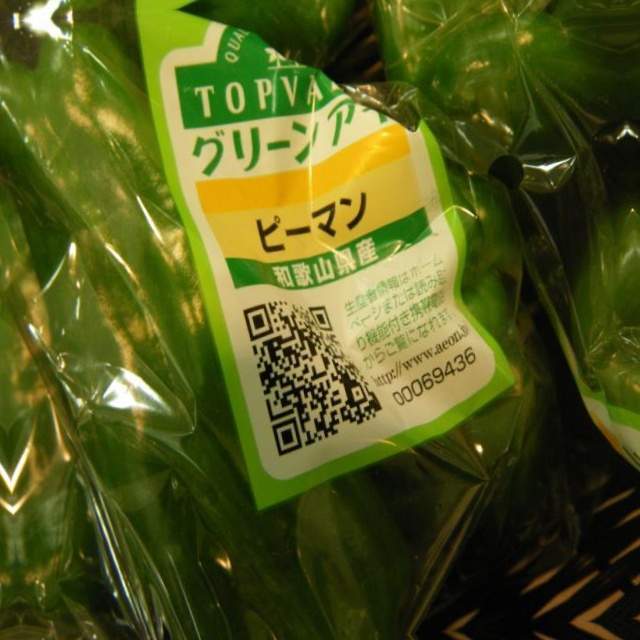qr-code: (243, 295, 387, 457)
